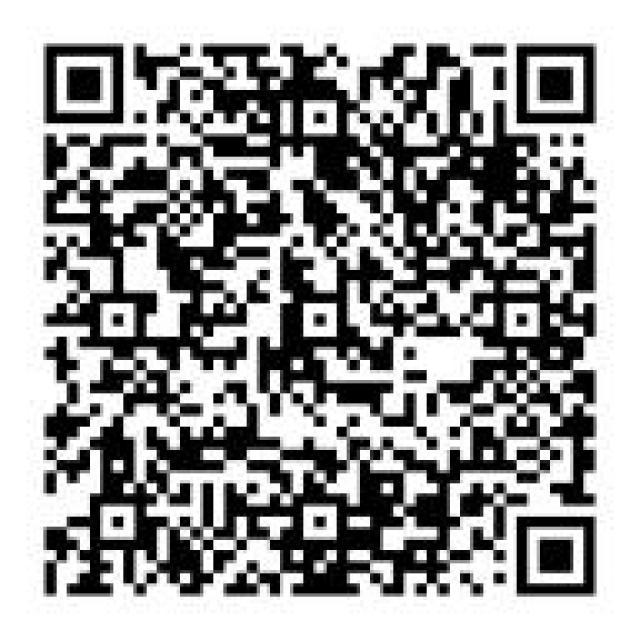qr_code: (44, 43, 597, 598)
